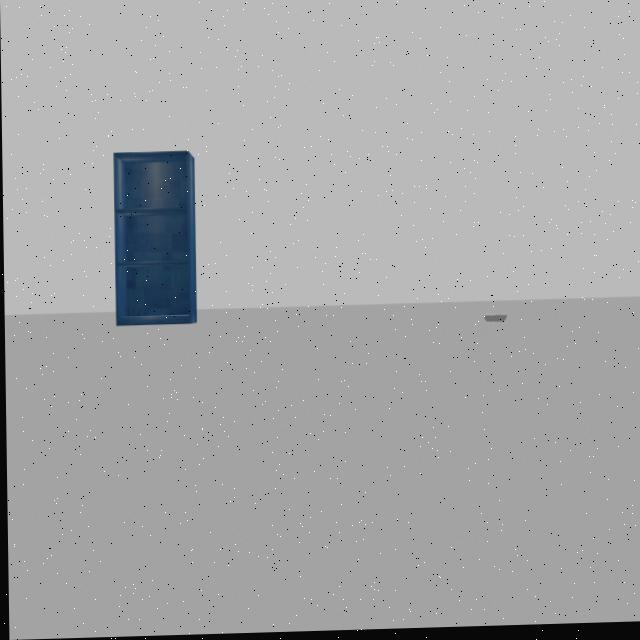bowl: (476, 310, 514, 348)
shelf: (100, 134, 207, 349)
